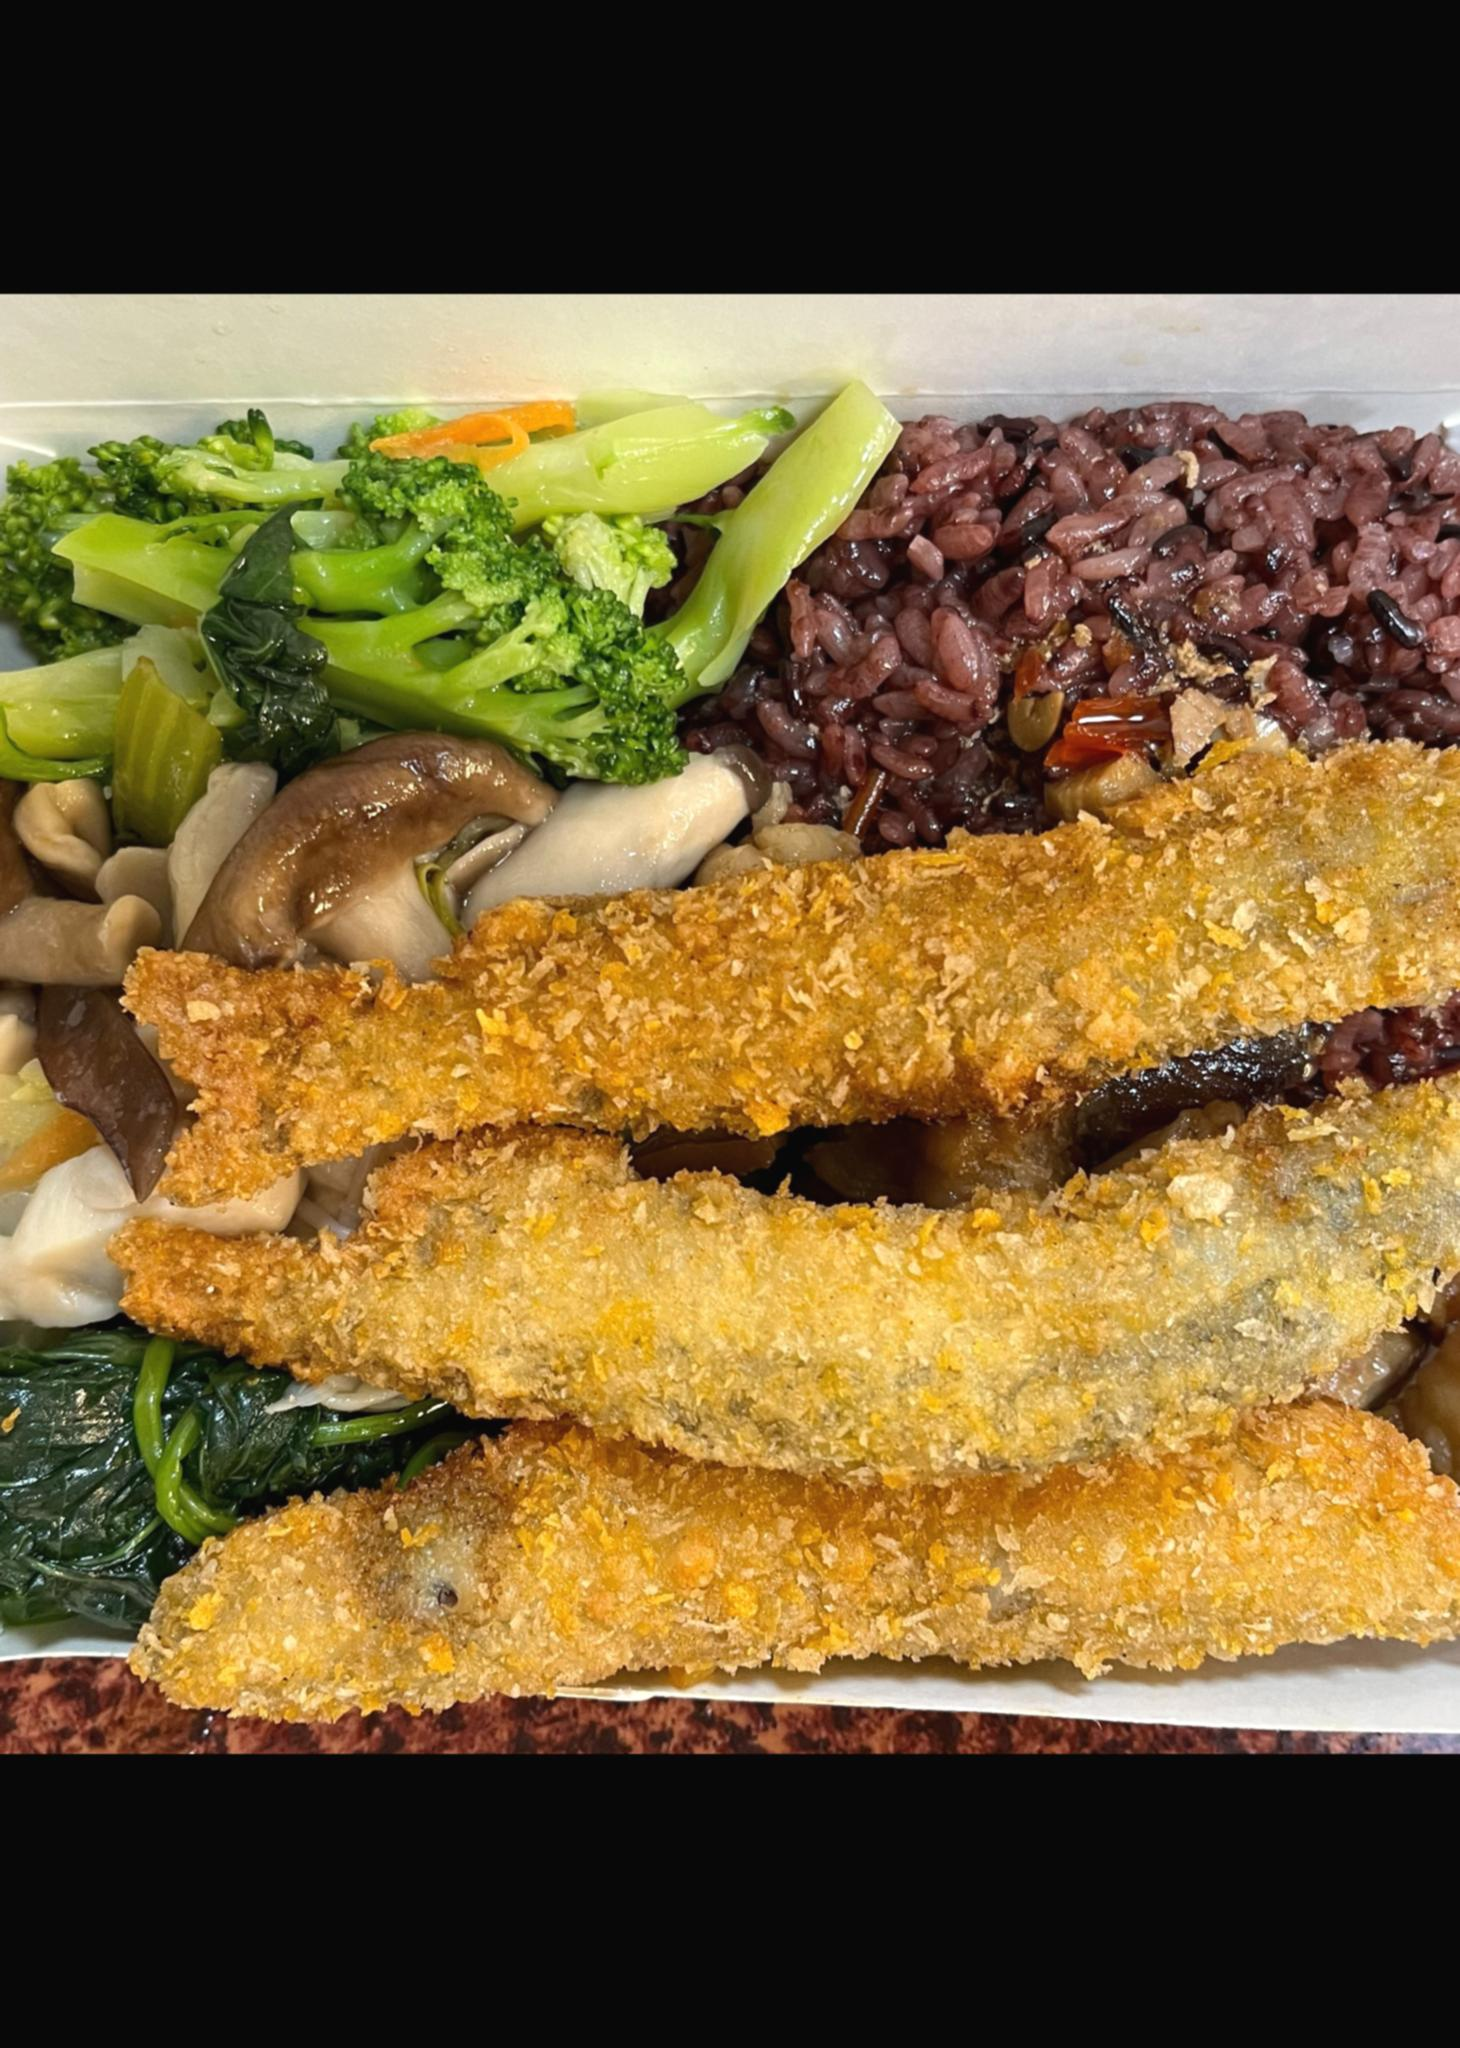box: (0, 329, 1460, 1746)
fried shishamo: (106, 751, 1460, 1689)
purple rice: (725, 393, 1460, 831)
side dish: (0, 381, 875, 781), (0, 751, 774, 1024), (0, 1345, 450, 1580)
